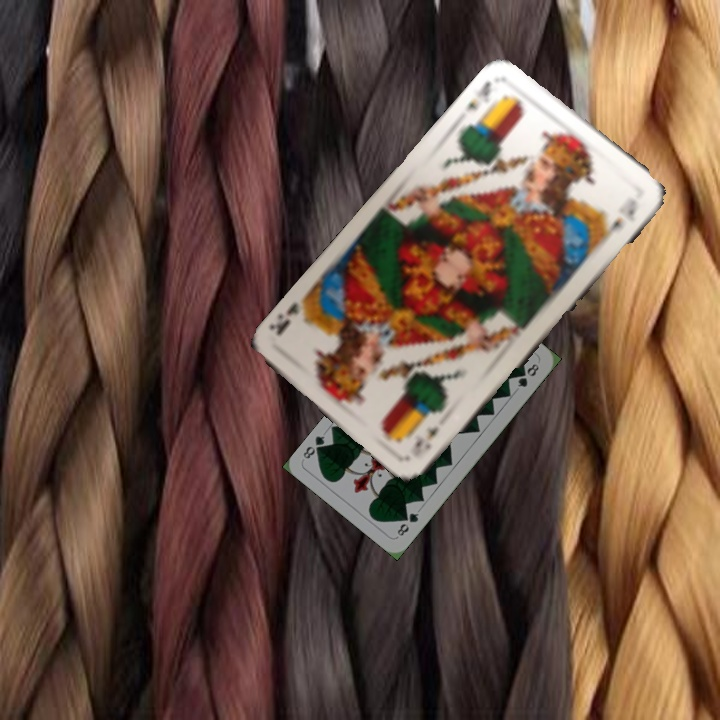EK: (406, 422, 442, 461), (461, 76, 494, 116)
G8: (393, 509, 421, 539)
